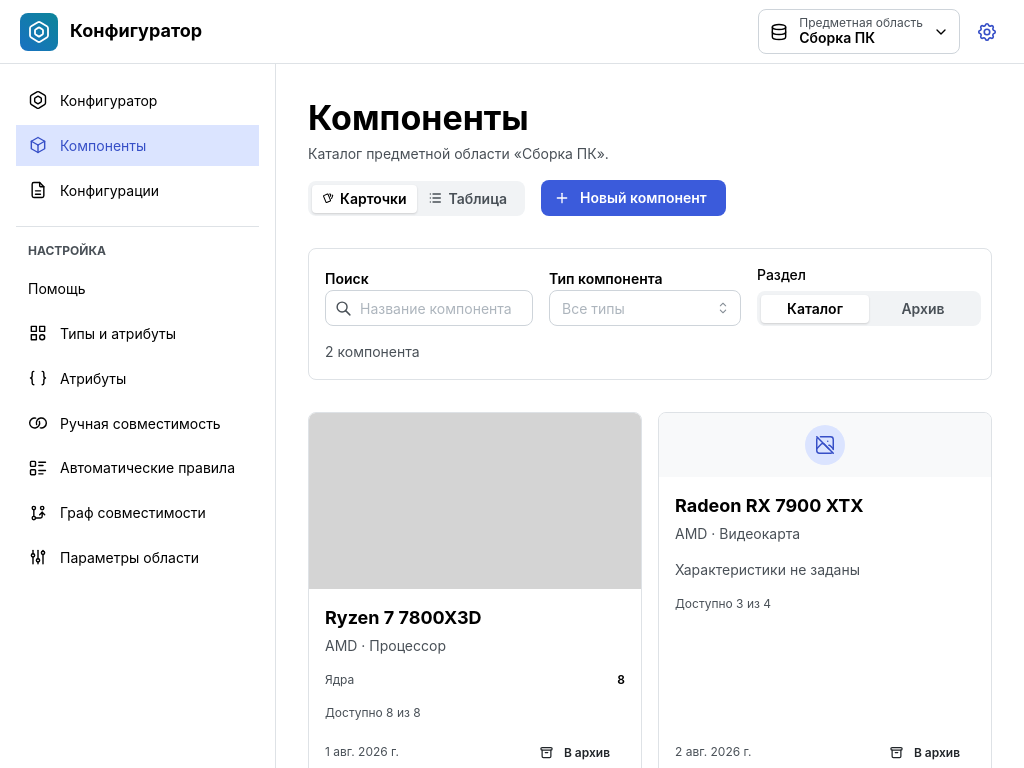
Scenario: component catalog › switches to the table representation and persists it
The image size is (1024, 768).
Expected: the heading "Ryzen 7 7800X3D" is shown, [325, 605, 482, 631]
Click the text "Таблица" at (478, 198), box [448, 188, 507, 209]
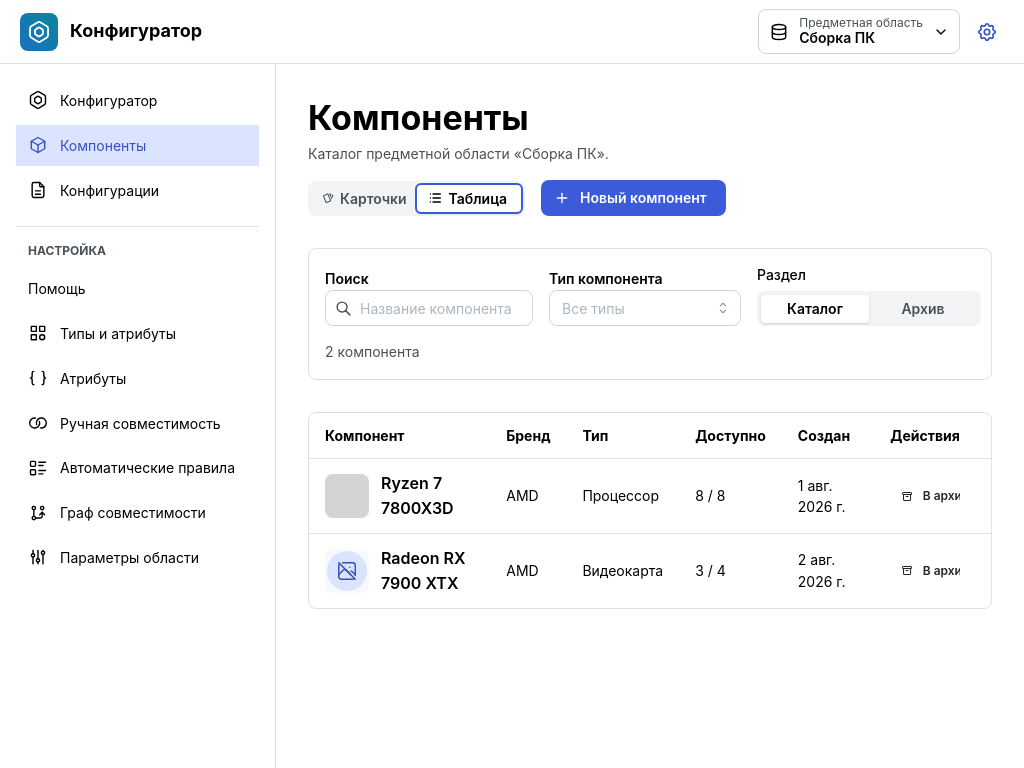
Now the table is shown, box [309, 413, 991, 608]
Now the column heading "Бренд" is shown, box [490, 413, 566, 459]
